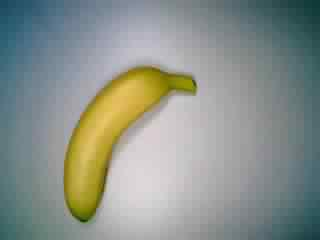banana: (61, 62, 196, 224)
